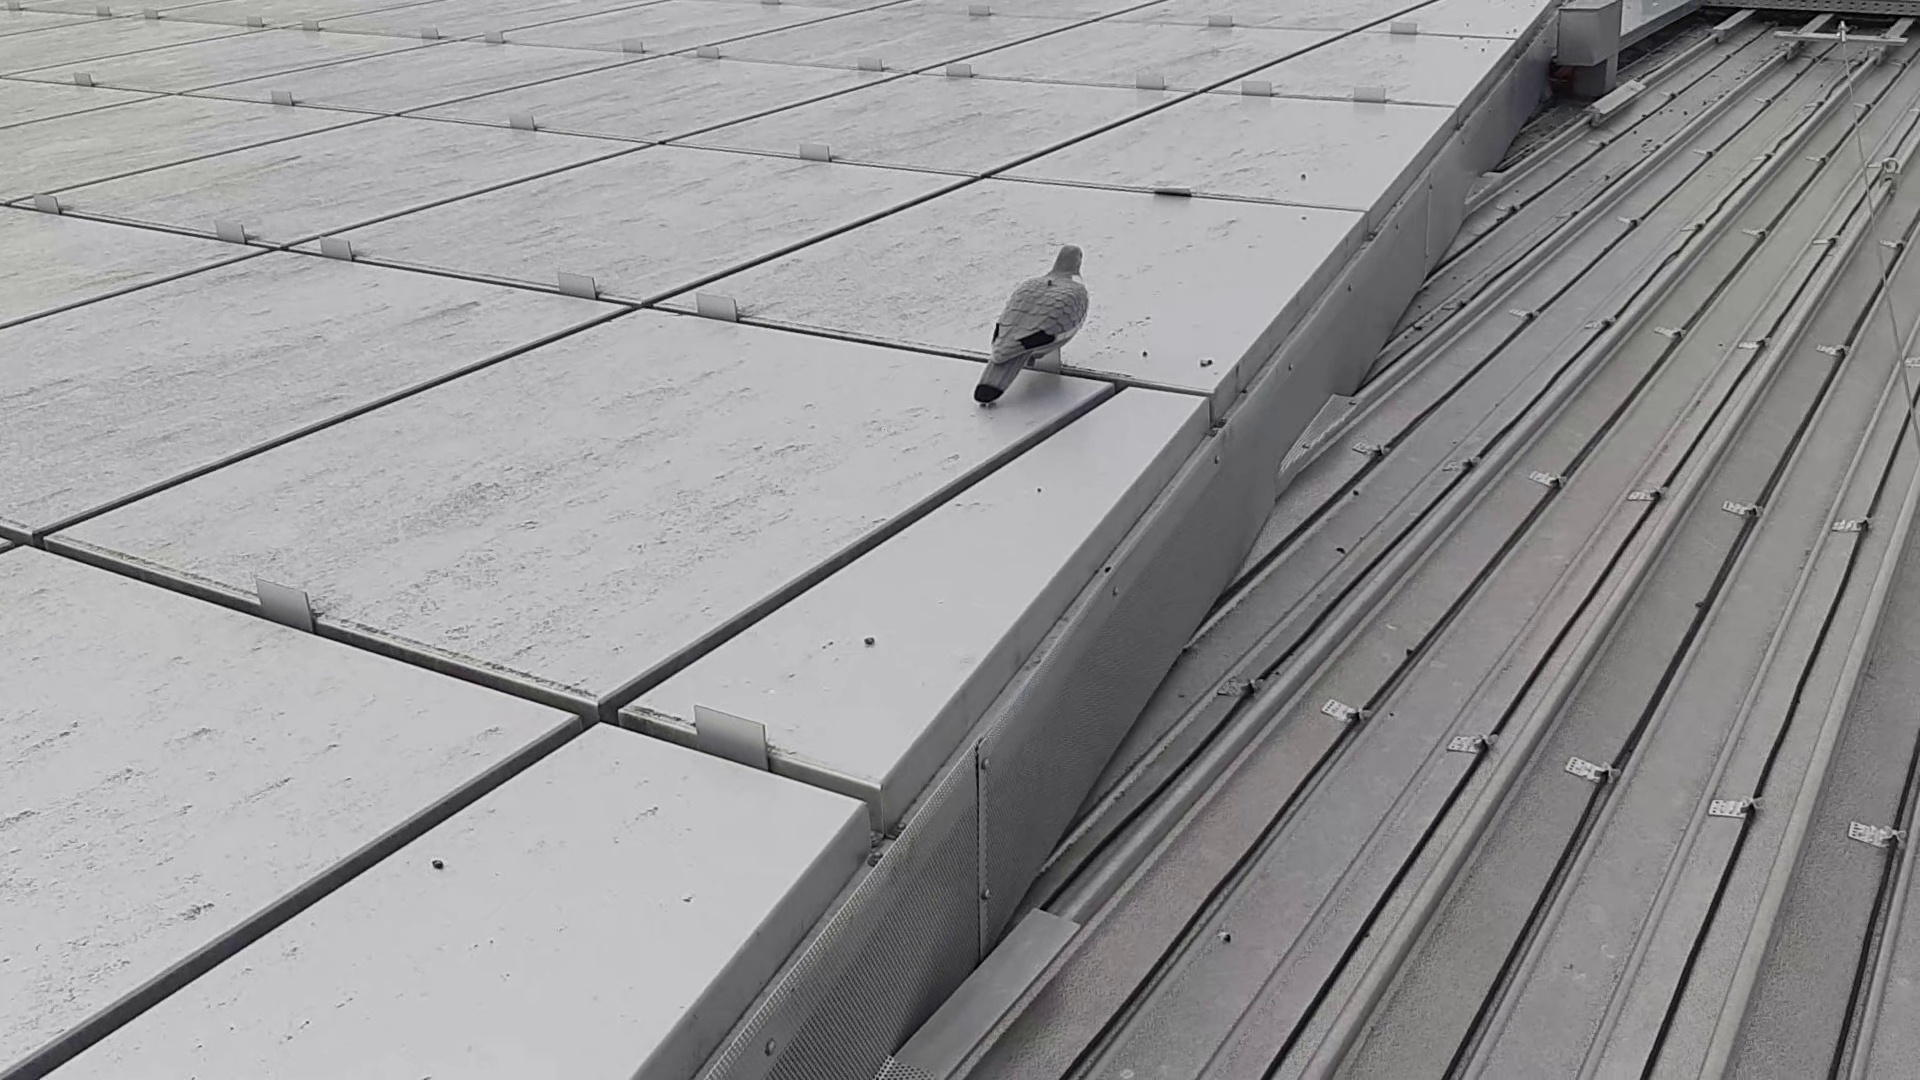Pigeon: (963, 233, 1091, 414)
